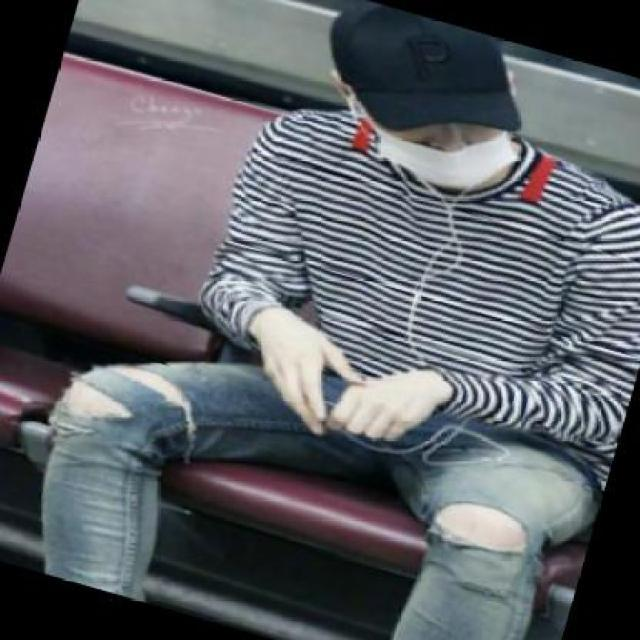hairnet: (344, 89, 530, 208)
